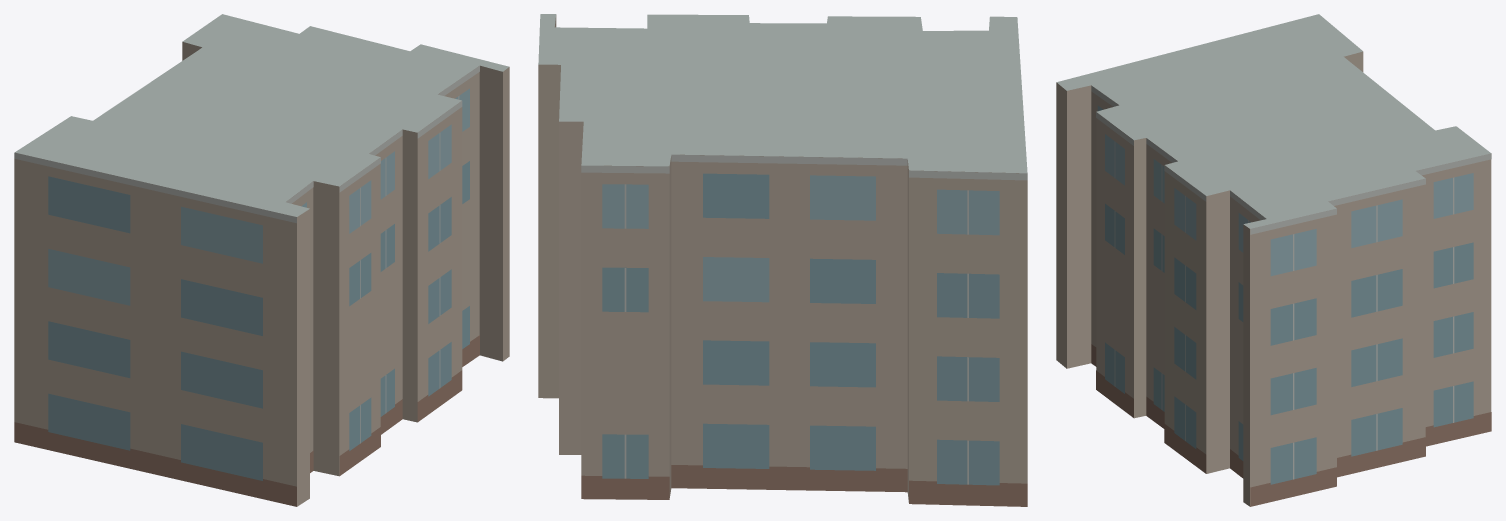
Rendered from survey-upis-33002395.glb.
3 views of the same model, side by side, from view 1: azimuth 30°, elevation 25°; view 2: azimuth 150°, elevation 25°; view 3: azimuth 270°, elevation 25° (orthographic). The views are drawn at different scales.
Parts seen in each view (by area): view 1: survey-upis-33002395.tmp; view 2: survey-upis-33002395.tmp; view 3: survey-upis-33002395.tmp.
Boxes of the visible parts, bbox=[...] form: survey-upis-33002395.tmp: bbox=[14, 14, 509, 506]; survey-upis-33002395.tmp: bbox=[538, 14, 1027, 506]; survey-upis-33002395.tmp: bbox=[1056, 14, 1491, 506].
Bounding box in the file's own units: 18.91 × 11.4 × 16.18.
